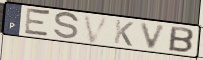B: (166, 25, 195, 55)
E: (23, 6, 53, 39)
K: (113, 19, 136, 48)
S: (52, 11, 81, 41)
V: (82, 14, 112, 44), (139, 21, 169, 51)
